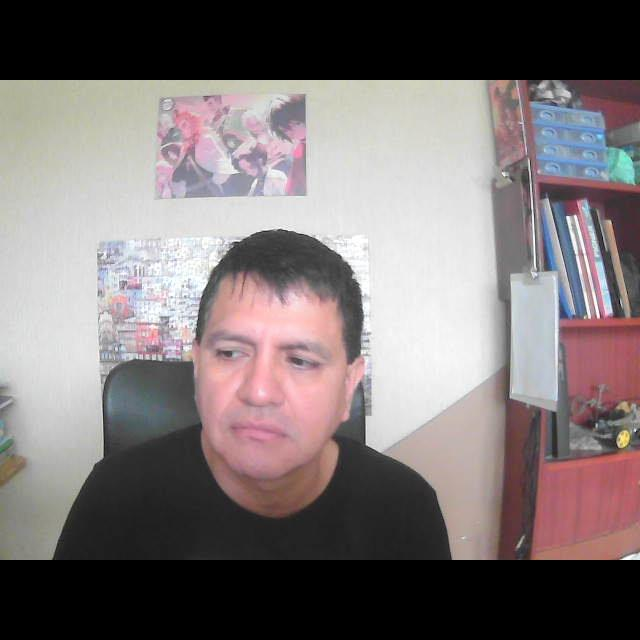cesar: (176, 218, 378, 520)
